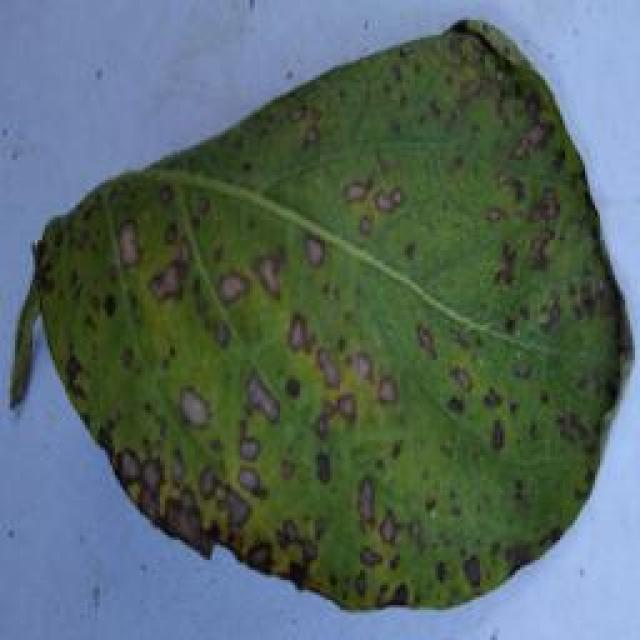Potato_Early_Blight: (5, 12, 632, 636)
